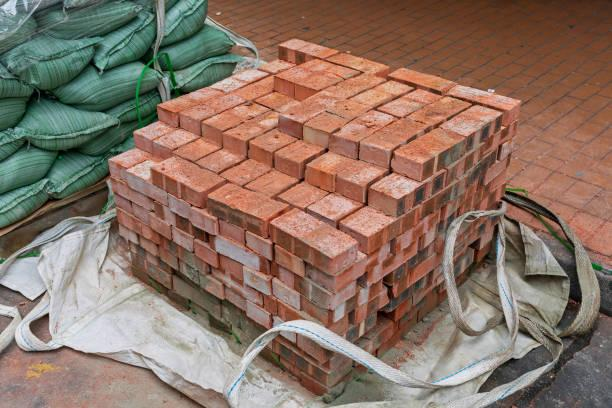Bricks: (346, 204, 420, 255), (445, 132, 503, 196), (269, 225, 333, 275), (277, 213, 353, 255), (395, 127, 462, 170), (388, 263, 446, 310), (204, 186, 289, 218), (154, 153, 224, 191), (269, 338, 327, 383), (362, 117, 430, 154), (303, 99, 372, 135), (379, 66, 459, 97), (157, 202, 212, 247), (211, 235, 269, 277), (285, 86, 349, 123), (365, 243, 419, 286), (329, 280, 384, 322), (333, 246, 392, 284), (228, 108, 285, 147), (374, 313, 421, 360), (446, 98, 498, 140), (397, 169, 447, 212), (272, 266, 324, 307), (152, 167, 203, 208), (208, 201, 266, 237), (335, 112, 398, 145), (157, 84, 226, 114), (442, 175, 482, 226), (408, 94, 470, 126), (448, 83, 518, 111), (392, 254, 442, 293), (391, 207, 438, 248), (172, 278, 221, 316), (350, 81, 409, 112), (380, 89, 442, 118), (422, 175, 468, 214), (213, 263, 260, 301), (389, 244, 437, 281), (326, 49, 384, 78), (423, 138, 466, 176), (295, 65, 353, 93), (161, 240, 206, 275), (210, 101, 262, 131), (251, 169, 301, 200), (275, 56, 330, 84), (215, 304, 259, 339), (128, 174, 170, 210), (117, 208, 160, 243), (284, 180, 329, 213), (185, 95, 242, 121), (311, 191, 362, 220), (228, 160, 270, 193), (464, 117, 504, 150), (341, 158, 388, 186), (281, 37, 343, 58), (115, 179, 157, 210), (280, 137, 323, 167), (357, 290, 389, 330), (340, 69, 384, 98), (115, 195, 153, 228), (309, 150, 353, 178), (236, 75, 278, 103), (174, 137, 218, 163), (257, 86, 299, 113), (217, 69, 267, 91), (346, 208, 385, 236), (468, 150, 499, 185), (476, 182, 507, 217), (373, 171, 413, 198), (254, 127, 292, 154), (320, 359, 355, 386), (483, 152, 513, 182), (332, 242, 358, 276), (204, 148, 244, 170), (274, 245, 304, 274), (161, 132, 200, 154), (140, 117, 176, 140), (301, 297, 330, 325), (216, 257, 245, 284), (190, 208, 220, 234), (269, 282, 299, 308), (482, 169, 507, 198), (372, 320, 396, 350), (146, 262, 173, 288), (358, 143, 386, 168), (260, 55, 293, 76), (307, 267, 334, 292), (330, 138, 360, 160), (245, 234, 269, 261), (217, 217, 245, 240), (390, 158, 420, 179), (277, 117, 302, 142), (245, 267, 268, 294), (369, 193, 399, 213), (193, 239, 216, 265), (338, 179, 366, 200), (303, 128, 331, 148), (395, 296, 416, 322), (500, 135, 520, 161), (273, 75, 295, 98), (419, 227, 441, 250), (170, 194, 190, 219), (306, 170, 332, 188), (152, 217, 174, 238), (502, 122, 521, 146), (174, 230, 193, 254), (420, 293, 439, 316), (158, 107, 182, 125), (296, 81, 318, 100), (119, 228, 142, 246), (177, 114, 201, 131), (200, 124, 221, 143), (250, 147, 273, 163), (504, 103, 520, 125), (142, 238, 158, 259), (226, 134, 244, 152), (248, 304, 267, 321), (228, 291, 248, 307), (278, 305, 300, 319), (205, 277, 222, 294), (278, 158, 297, 173), (112, 163, 125, 181), (182, 267, 199, 278), (266, 299, 277, 312), (164, 253, 172, 263)
